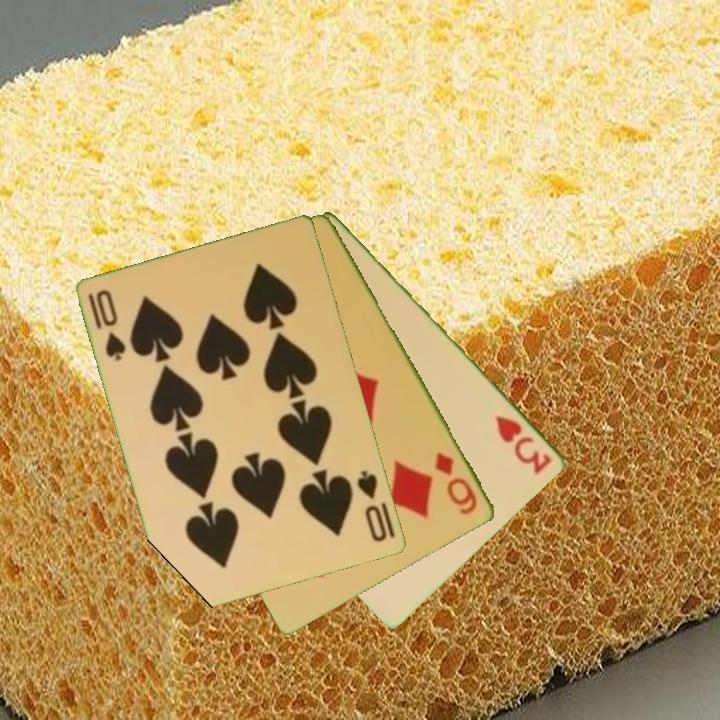10s: (85, 286, 130, 364), (354, 467, 391, 545)
3h: (492, 411, 555, 477)
6d: (431, 448, 481, 518)
